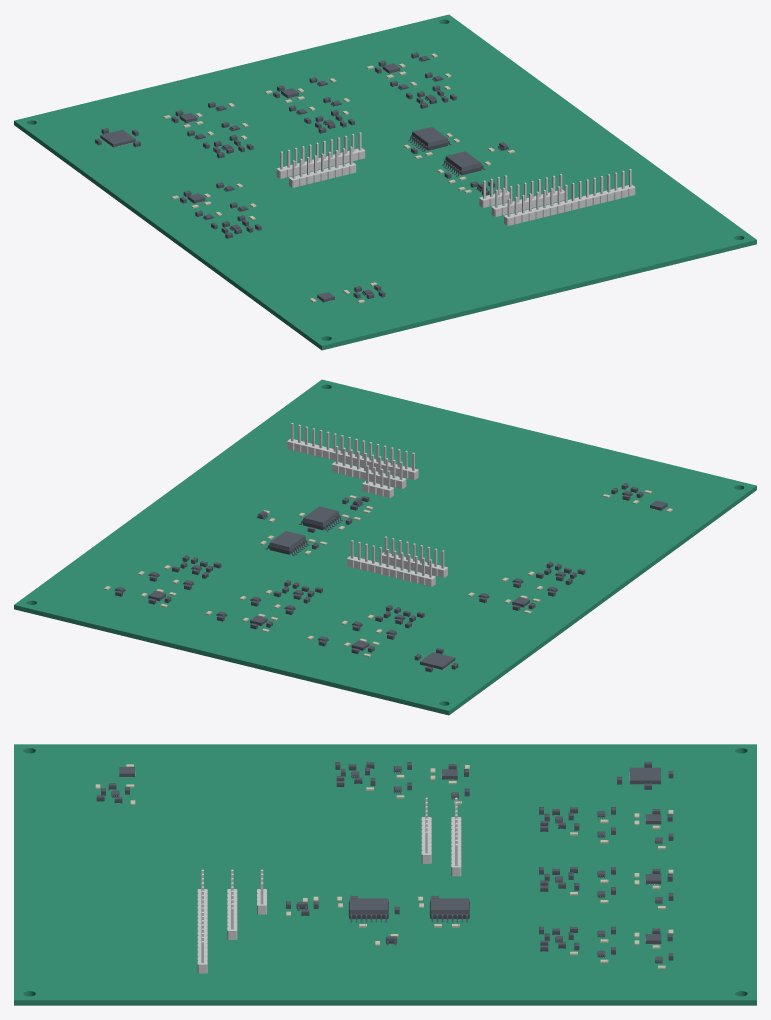
File: recording-front-end.glb
3 views of the same model, one above another, from view 1: azimuth 30°, elevation 25°; view 2: azimuth 150°, elevation 25°; view 3: azimuth 270°, elevation 25° (orthographic). The views are drawn at different scales.
Visible parts, largest first — view 1: PCB, J30003, J39901, J39902, J30002, U30001, U30002; view 2: PCB, J30003, J39901, J30002, J39902, U30001, U30002, J30001; view 3: PCB, J30003, U30002, U30001, J39901, J30002, J39902, U30010.
Part boxes in pixels (left/top/right/bottom): PCB: left=14, top=14, right=756, bottom=350; J30003: left=504, top=169, right=635, bottom=225; J39901: left=276, top=132, right=365, bottom=178; J39902: left=289, top=146, right=356, bottom=187; J30002: left=491, top=174, right=564, bottom=216; U30001: left=408, top=127, right=451, bottom=151; U30002: left=441, top=151, right=485, bottom=176; PCB: left=14, top=379, right=756, bottom=715; J30003: left=287, top=423, right=418, bottom=479; J39901: left=347, top=540, right=435, bottom=586; J30002: left=332, top=446, right=406, bottom=488; J39902: left=382, top=536, right=447, bottom=577; U30001: left=265, top=531, right=309, bottom=555; U30002: left=299, top=506, right=342, bottom=531; J30001: left=362, top=465, right=393, bottom=497; PCB: left=14, top=744, right=756, bottom=1005; J30003: left=197, top=869, right=207, bottom=973; U30002: left=348, top=898, right=388, bottom=922; U30001: left=429, top=898, right=469, bottom=922; J39901: left=451, top=797, right=461, bottom=876; J30002: left=227, top=869, right=237, bottom=939; J39902: left=421, top=797, right=431, bottom=863; U30010: left=629, top=767, right=660, bottom=784.
Size of the model in its own units: 0.155 by 0.0115 by 0.19.
